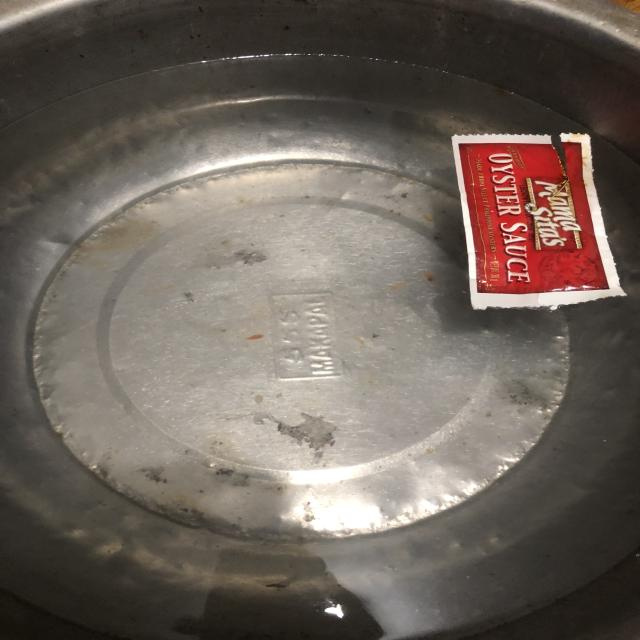Plastic Wrapper: (418, 110, 628, 330)
